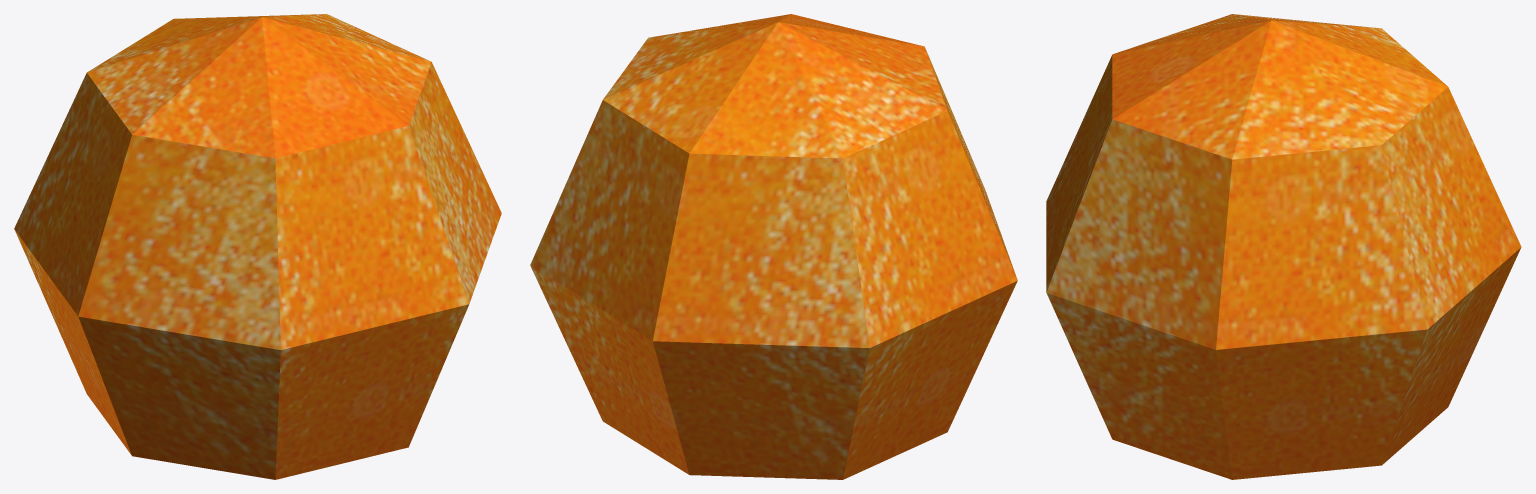
The model's file is orange.gltf.
3 views of the same model, side by side, from view 1: azimuth 30°, elevation 25°; view 2: azimuth 150°, elevation 25°; view 3: azimuth 270°, elevation 25° (orthographic).
Parts seen in each view (by area): view 1: OrangeUncut; view 2: OrangeUncut; view 3: OrangeUncut.
Boxes of the visible parts, bbox=[...] form: OrangeUncut: bbox=[14, 14, 501, 479]; OrangeUncut: bbox=[530, 14, 1017, 479]; OrangeUncut: bbox=[1046, 14, 1521, 479].
Bounding box in the file's own units: 1.46 × 1.5 × 1.43.
Materials: 1 (1 with a texture image).
